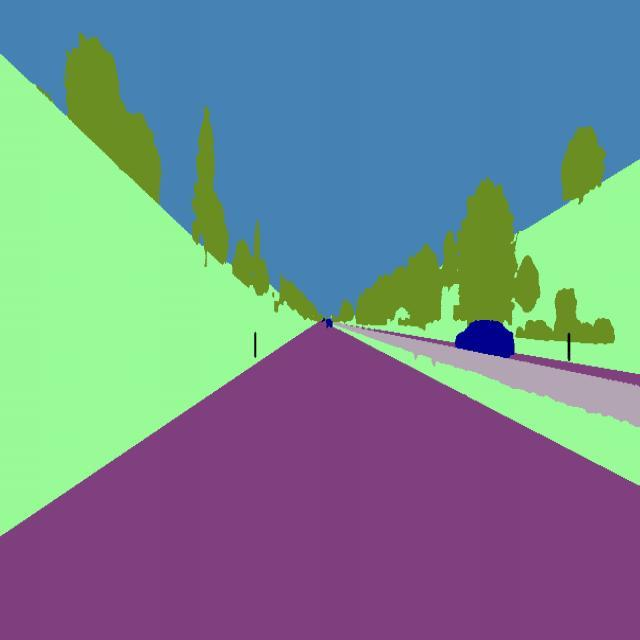safe: (452, 308, 520, 363), (321, 314, 336, 331)
